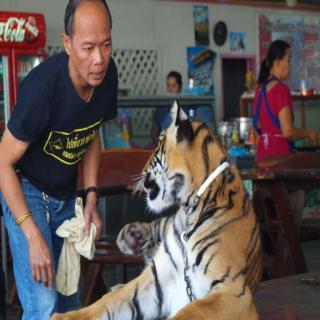Tiger: (114, 96, 302, 320)
